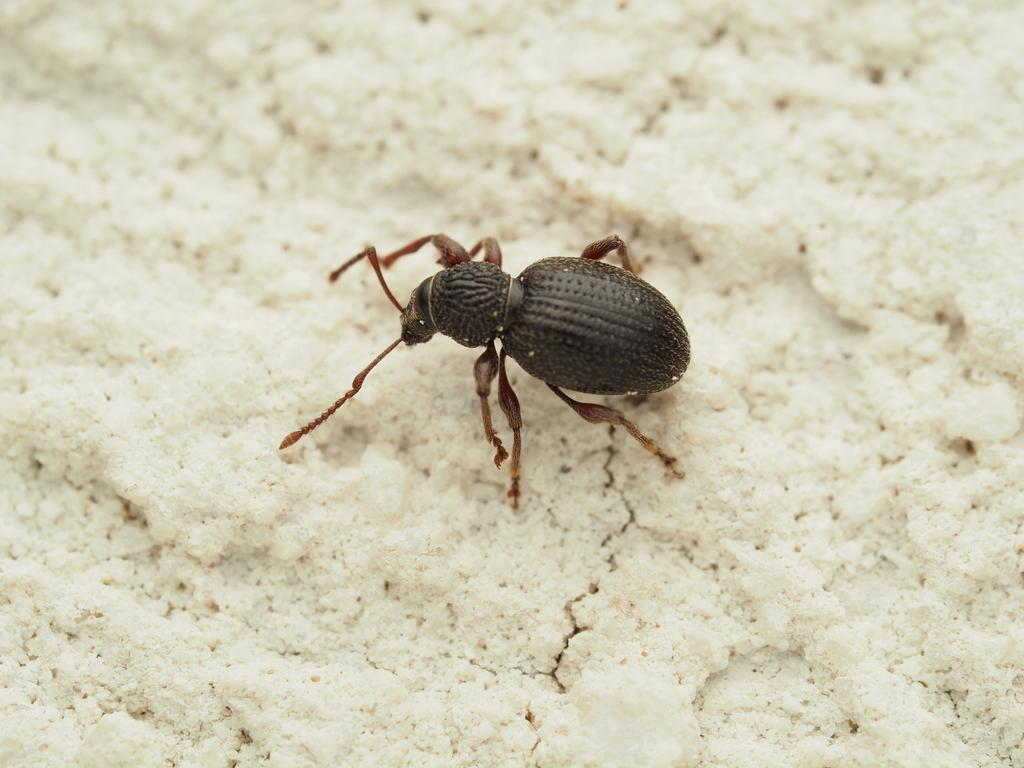weevils: (244, 197, 757, 547)
